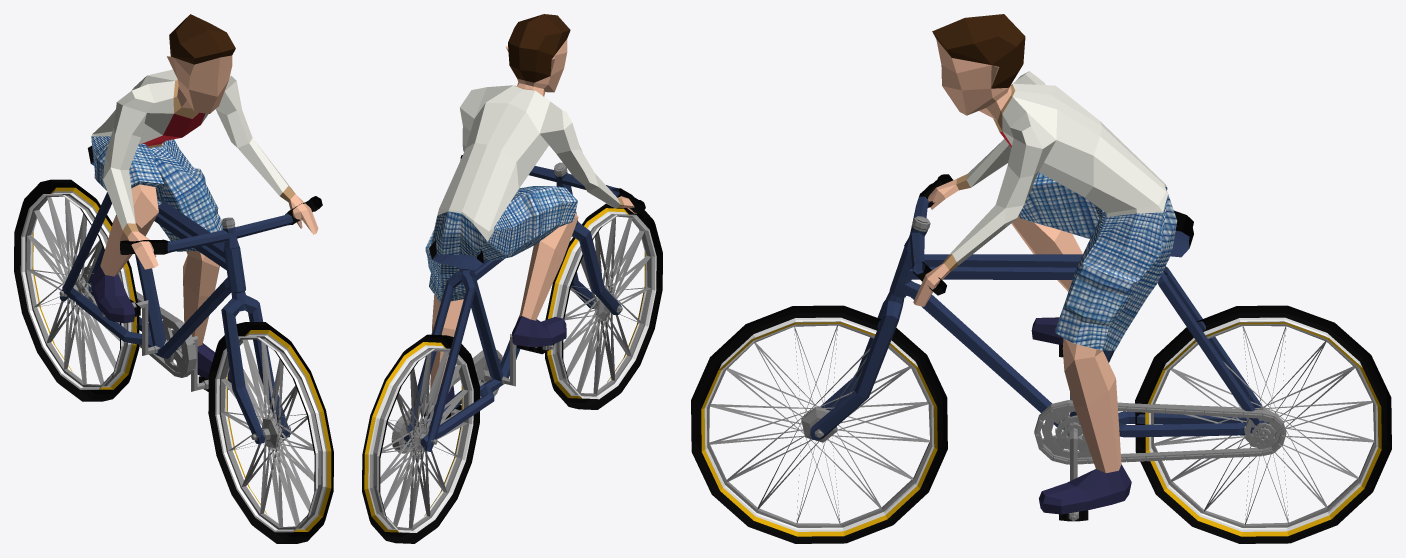
The model's file is SpringBoy.002.glb.
3 renders of one model, left to right at view 1: azimuth 30°, elevation 25°; view 2: azimuth 150°, elevation 25°; view 3: azimuth 270°, elevation 25°, orthographic. The views are drawn at different scales.
Parts seen in each view (by area): view 1: SpringBoy.011; view 2: SpringBoy.011; view 3: SpringBoy.011.
Part boxes in pixels (x1,y1,x2,y2): SpringBoy.011: (14, 14, 333, 543); SpringBoy.011: (362, 14, 662, 543); SpringBoy.011: (691, 14, 1391, 543).
Bounding box in the file's own units: 0.5321 × 1.18 × 1.42.
Materials: 6 (1 with a texture image).
